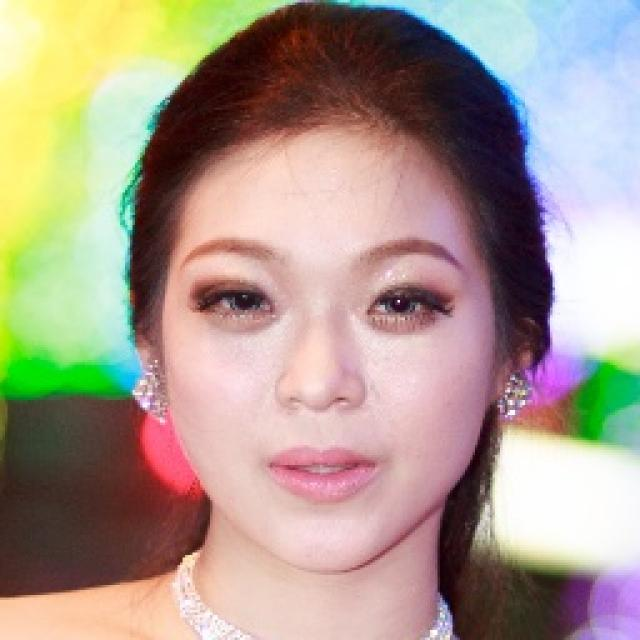earlobe: (492, 376, 518, 401)
eye: (200, 288, 274, 318), (372, 292, 436, 320)
nose: (281, 398, 365, 440)
wholeear: (491, 314, 544, 403), (137, 327, 167, 403)
